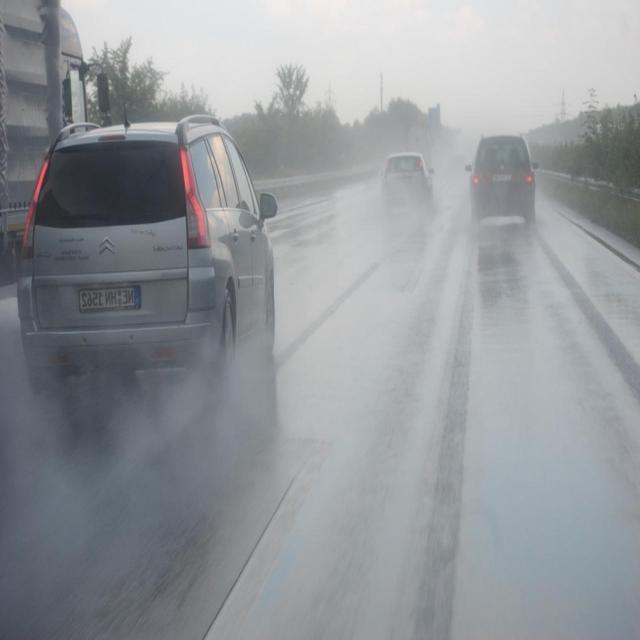Car: (25, 111, 282, 426), (469, 118, 539, 236), (372, 130, 434, 230)
Truck: (0, 0, 104, 248)
